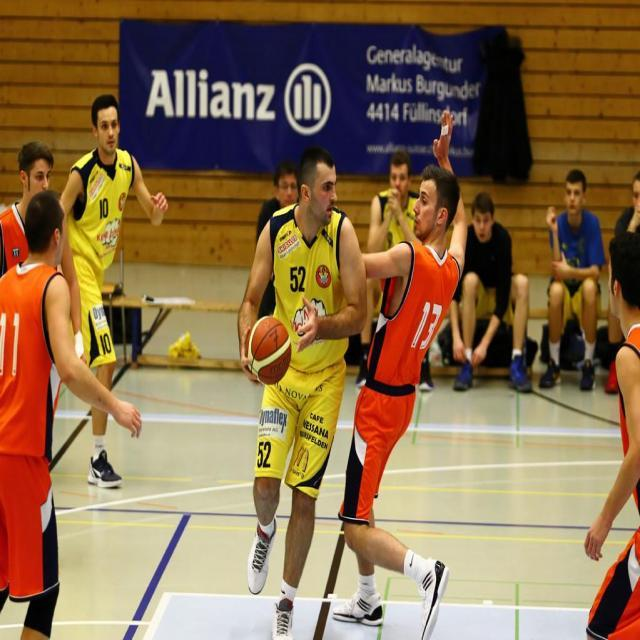rim: (248, 313, 291, 383)
